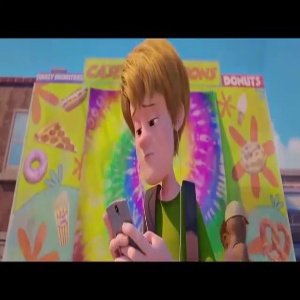Shagy: (116, 35, 198, 188)
